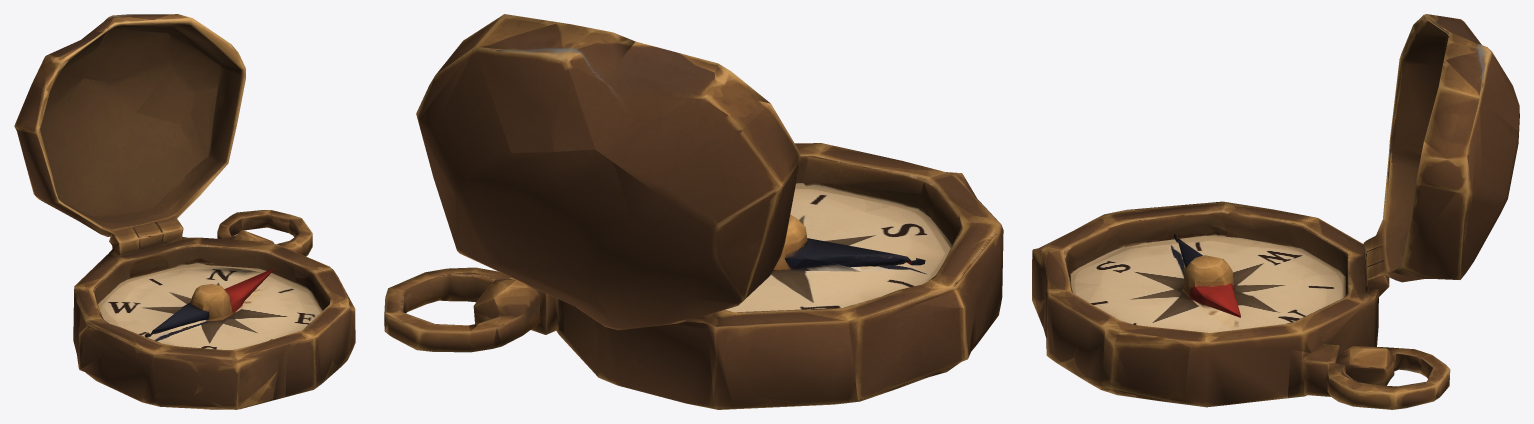
The model's file is BrujulaCazadorLowPoly.fbx.
3 renders of one model, left to right at view 1: azimuth 30°, elevation 25°; view 2: azimuth 150°, elevation 25°; view 3: azimuth 270°, elevation 25°, orthographic. The views are drawn at different scales.
Visible parts, largest first — view 1: model; view 2: model; view 3: model.
Boxes of the visible parts, box(x1,y1,x2,y2) form: model: box(14, 14, 355, 409); model: box(384, 14, 1003, 409); model: box(1032, 14, 1519, 409).
Bounding box in the file's own units: 160 × 141 × 189.
Materials: 1 (1 with a texture image).
